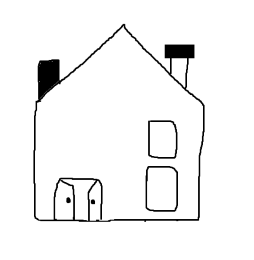chimney: (161, 30, 201, 88), (33, 50, 66, 102)
door: (46, 161, 109, 224)
open_window: (137, 113, 186, 165), (140, 158, 182, 216)
single_line_roof: (23, 18, 218, 108)
wall: (25, 100, 210, 224)
